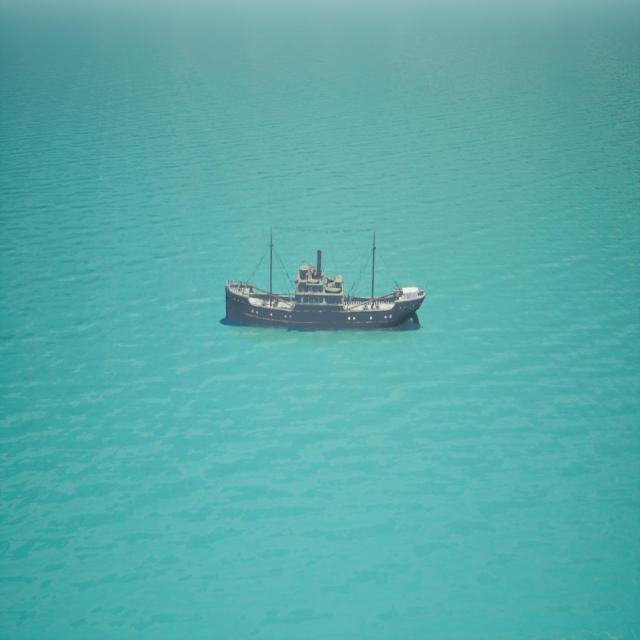fishing ship: (226, 228, 427, 333)
